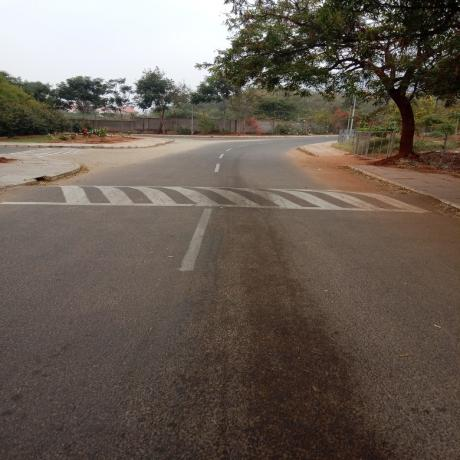Speed Bump: (0, 185, 444, 214)
